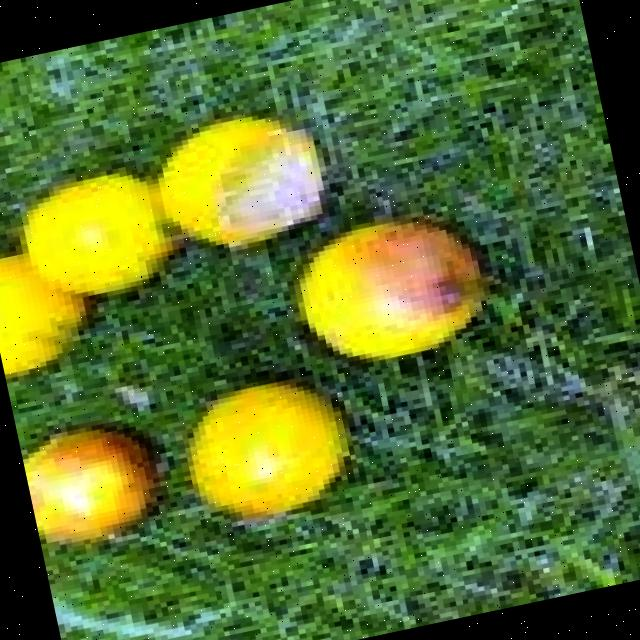Bad_Lime-0-1-day: (293, 214, 496, 363), (147, 109, 333, 250), (23, 420, 161, 546)
Good_Lime-10-21-days: (0, 169, 170, 375), (187, 382, 345, 512)
